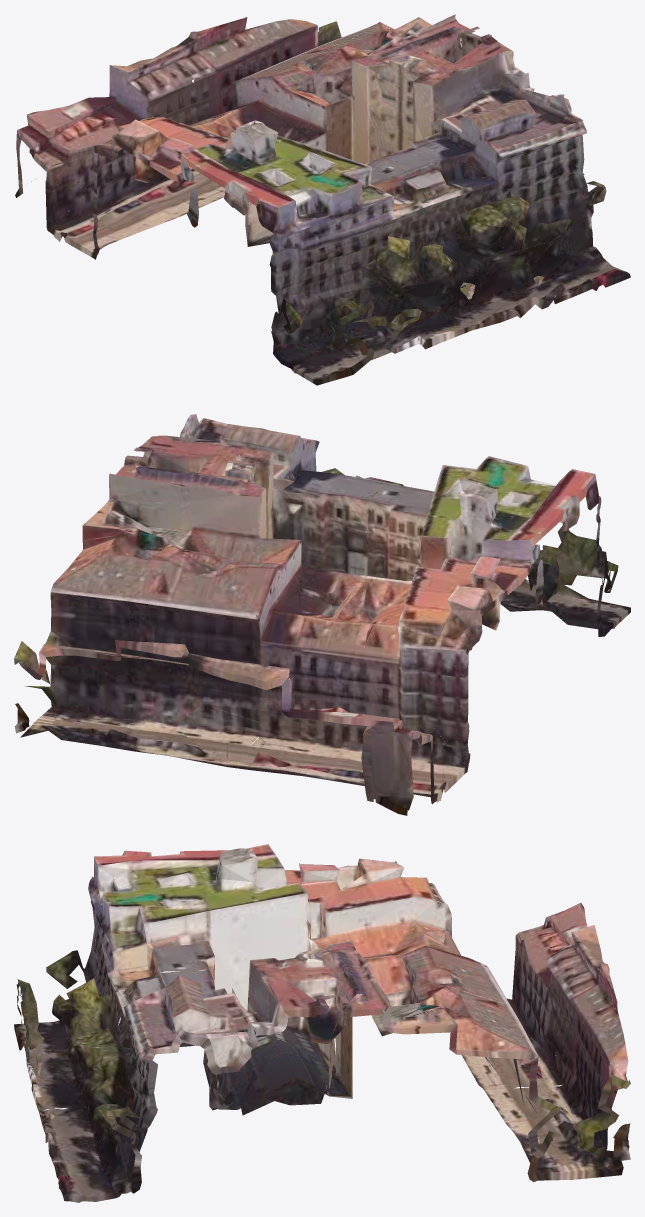
The picture shows the model from 3 angles, top to bottom: view 1: azimuth 30°, elevation 25°; view 2: azimuth 150°, elevation 25°; view 3: azimuth 270°, elevation 25°; orthographic projection. The views are drawn at different scales.
Visible parts, largest first — view 1: Mesh_0; view 2: Mesh_0; view 3: Mesh_0.
Part boxes in pixels (box(x1,y1,x2,y2)): Mesh_0: box(15, 14, 630, 385); Mesh_0: box(14, 414, 630, 815); Mesh_0: box(14, 844, 630, 1202).
Bounding box in the file's own units: 66.84 × 29.57 × 82.53.
2 materials, 2 textured.
